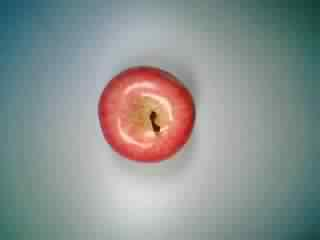apple: (93, 61, 199, 165)
